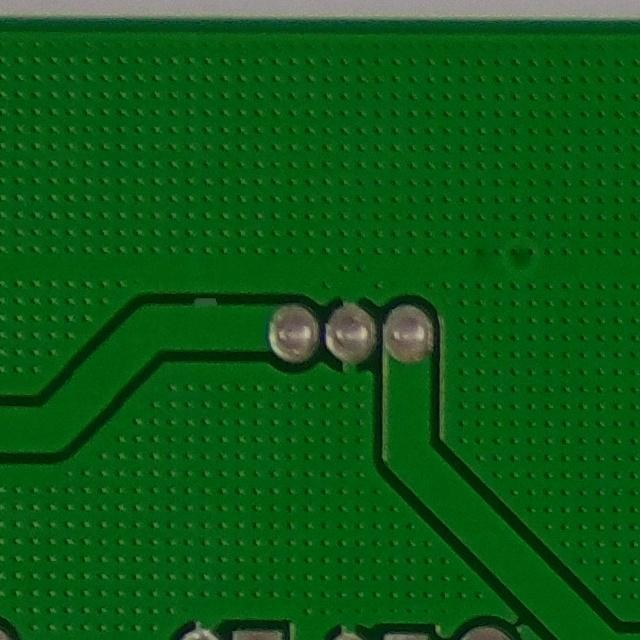spur: (177, 287, 235, 333)
